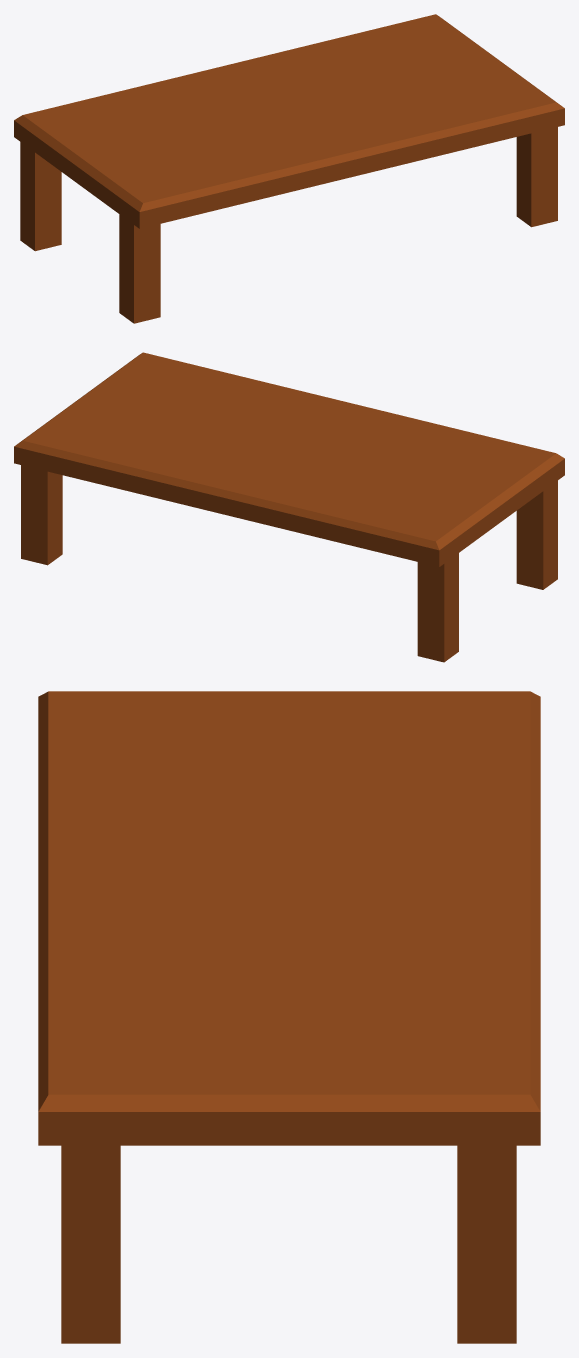
File: SM_Table.fbx
3 views of the same model, one above another, from view 1: azimuth 30°, elevation 25°; view 2: azimuth 150°, elevation 25°; view 3: azimuth 270°, elevation 25° (orthographic). The views are drawn at different scales.
Parts seen in each view (by area): view 1: Box002; view 2: Box002; view 3: Box002.
Boxes of the visible parts, x1,y1,x2,y2 form: Box002: [14, 14, 564, 323]; Box002: [14, 352, 564, 662]; Box002: [38, 691, 540, 1343].
Size of the model in its own units: 363 by 186 by 99.41.
1 material, 1 textured.
